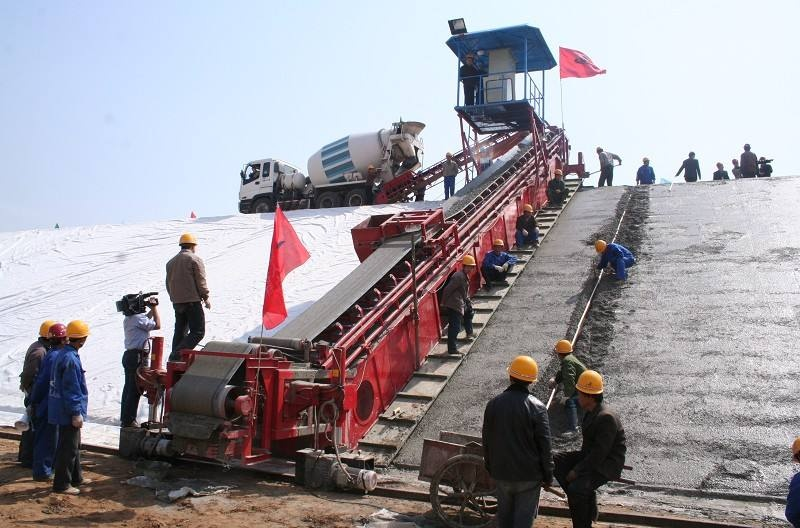yellow: (573, 368, 605, 413), (507, 356, 539, 393), (62, 318, 89, 351), (177, 230, 197, 254), (553, 337, 571, 362), (458, 253, 476, 277), (593, 237, 609, 257), (490, 237, 504, 253), (521, 203, 534, 219), (552, 167, 563, 181)
